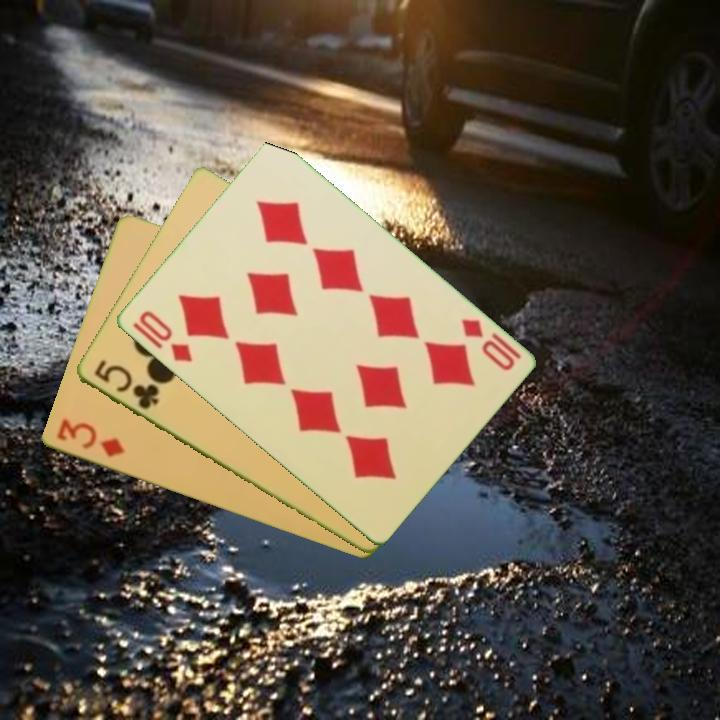10d: (457, 315, 524, 374), (135, 307, 195, 366)
3d: (53, 415, 128, 460)
5c: (90, 356, 162, 413)
